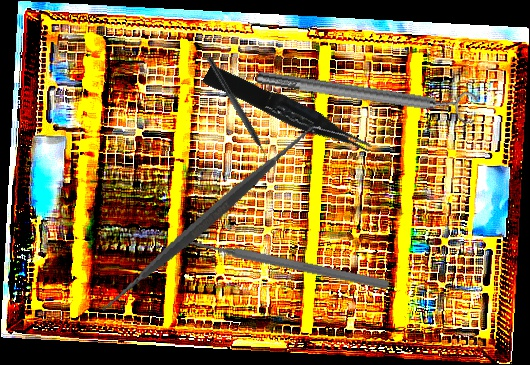Chopper: (199, 55, 273, 167)
Fixation Ring: (254, 57, 480, 129)
Pusher: (173, 232, 391, 292)
Spatula Surgical: (84, 97, 329, 341)
Tissue Forceps: (201, 57, 375, 167)
